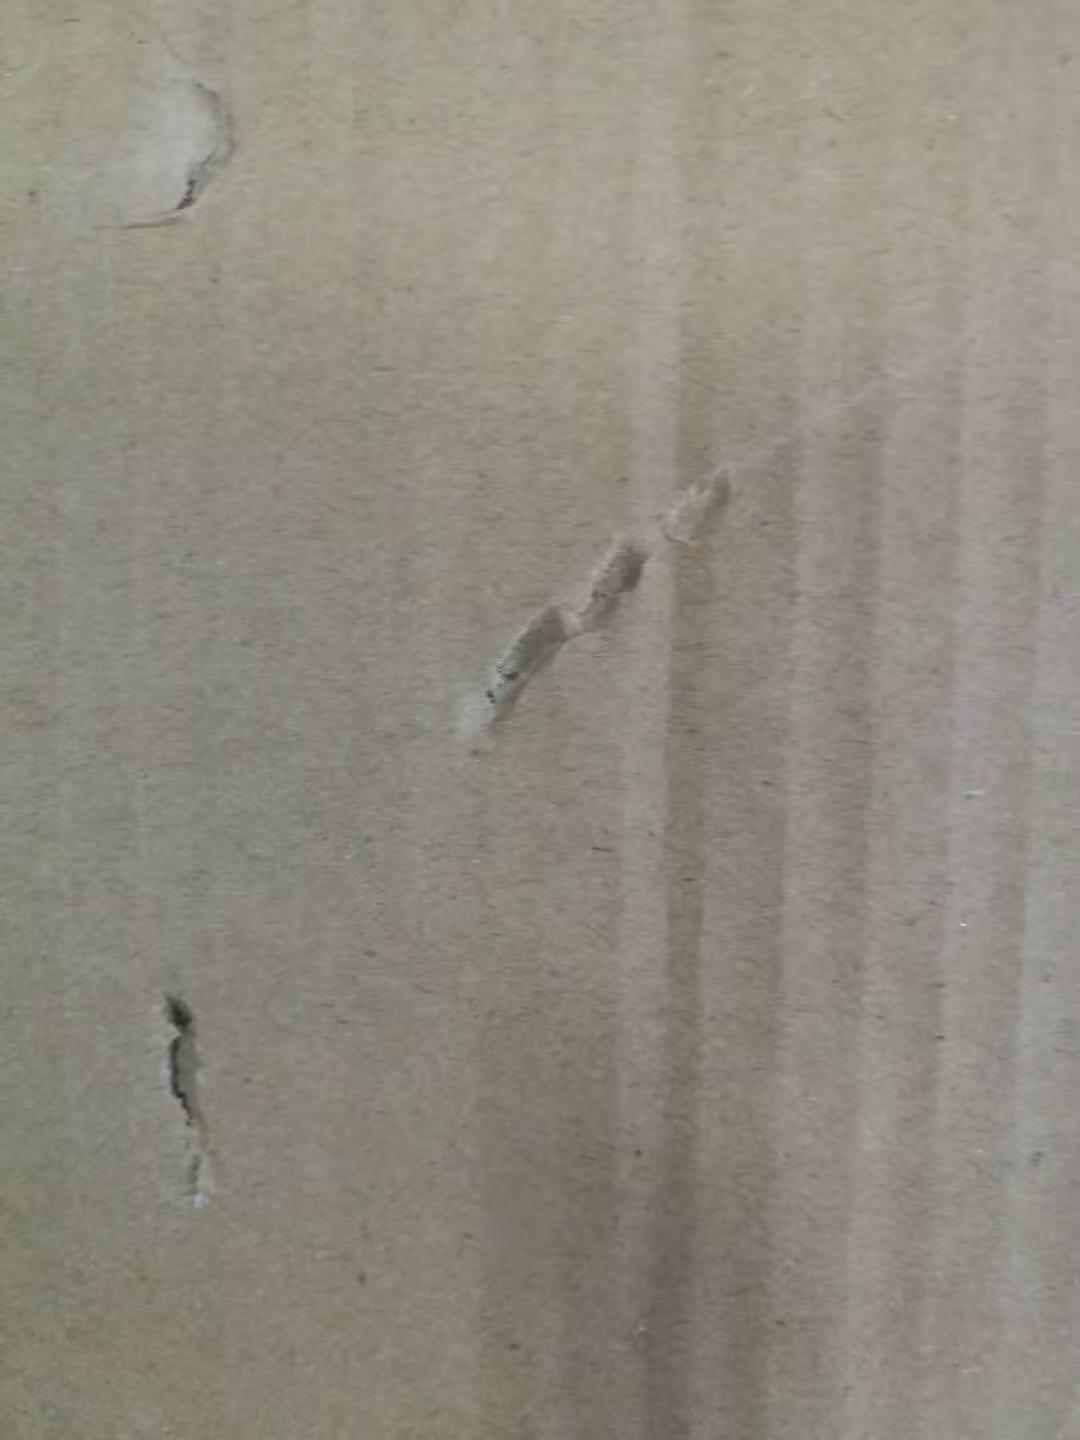defect: (419, 296, 1005, 788), (91, 50, 277, 261), (119, 965, 263, 1227)
